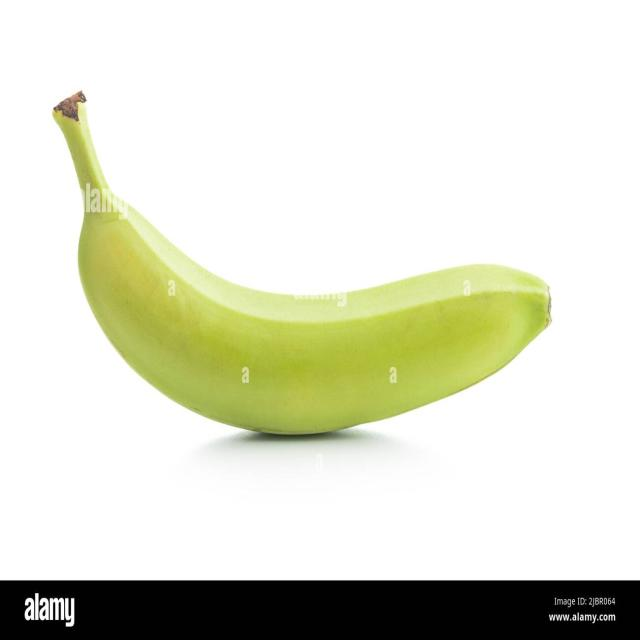non_orange: (56, 90, 556, 442)
